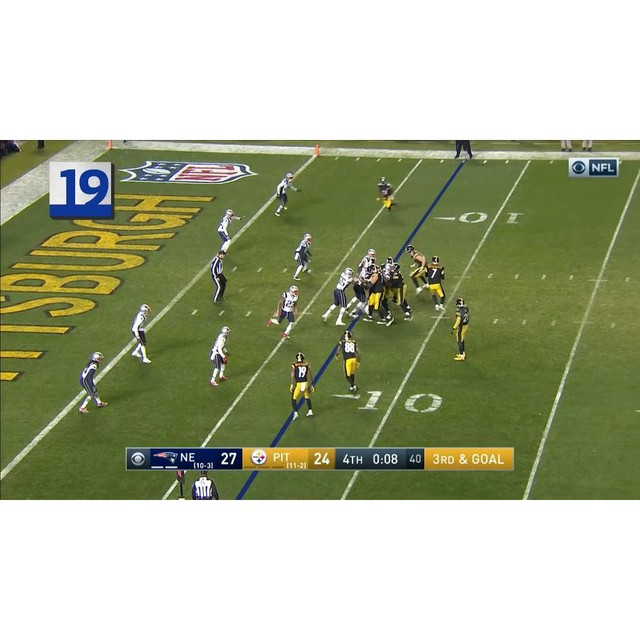american-football-player: (321, 268, 354, 326), (78, 352, 108, 414), (267, 286, 299, 338), (289, 353, 314, 418), (366, 265, 392, 325), (387, 261, 412, 321), (130, 304, 153, 364), (338, 331, 360, 393), (424, 256, 447, 311), (209, 327, 231, 384), (451, 296, 469, 360), (406, 244, 429, 294), (216, 208, 239, 256), (274, 172, 298, 216), (293, 232, 313, 279), (377, 176, 397, 213)
referee: (209, 249, 228, 303)
